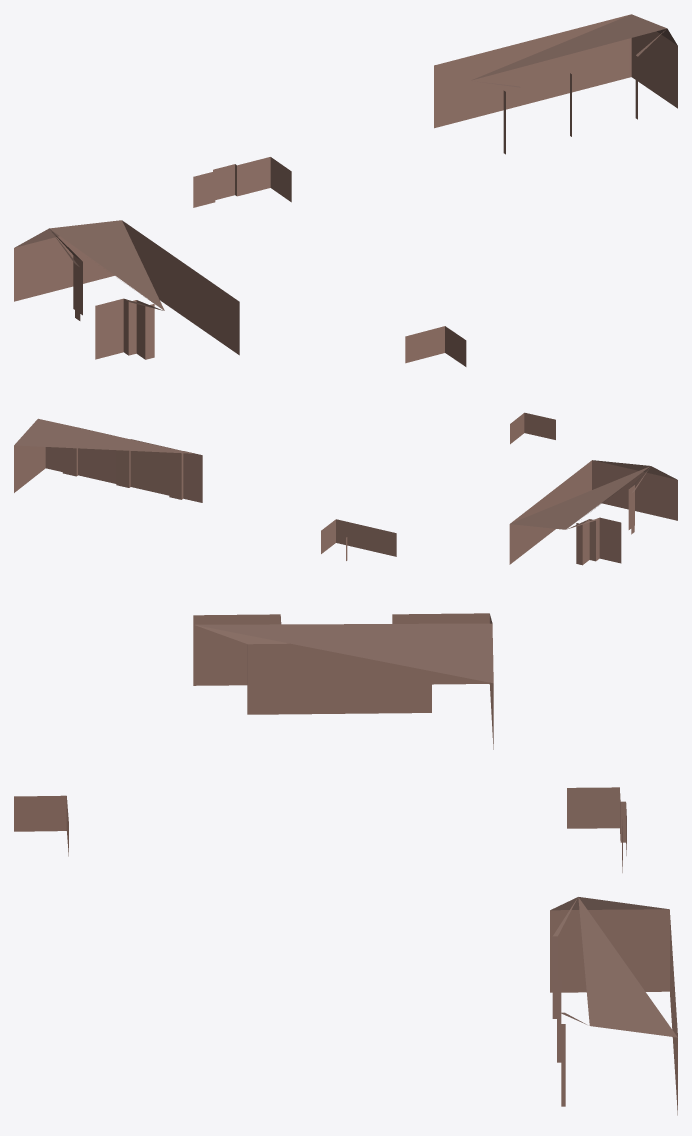
The model's file is c_1634_17829_buildings_residential.glb.
3 renders of one model, top to bottom at view 1: azimuth 30°, elevation 25°; view 2: azimuth 150°, elevation 25°; view 3: azimuth 270°, elevation 25°, orthographic. The views are drawn at different scales.
Parts seen in each view (by area): view 1: geometry_0; view 2: geometry_0; view 3: geometry_0.
Boxes of the visible parts, x1,y1,x2,y2 form: geometry_0: (14, 14, 677, 366); geometry_0: (14, 412, 677, 565); geometry_0: (14, 613, 677, 1115).
Size of the model in its own units: 256 by 27.09 by 162.
